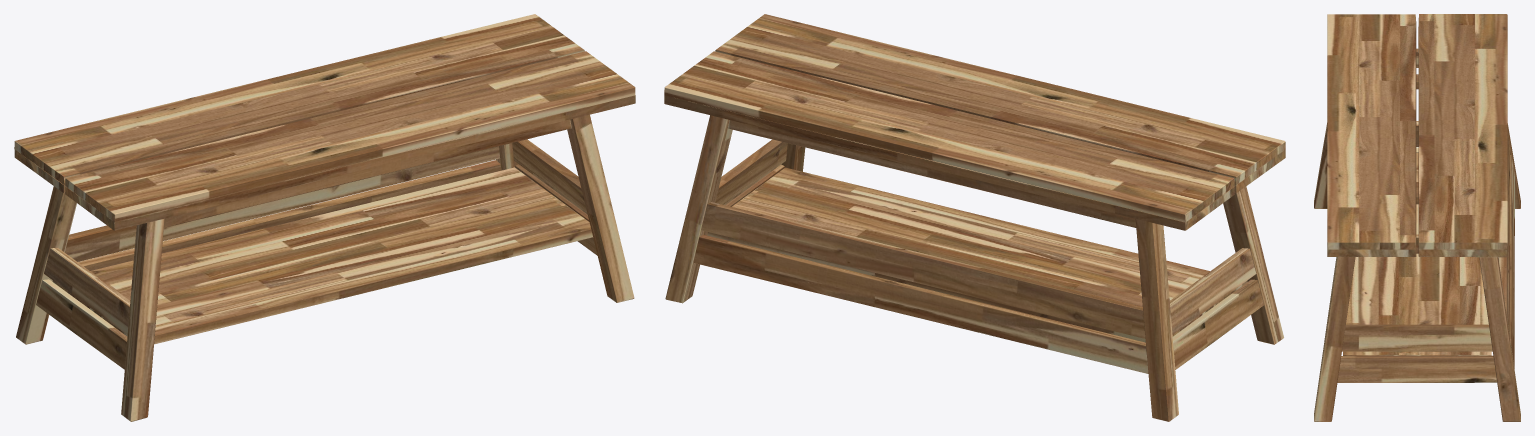
File: LB-BENCH-04.glb
3 renders of one model, left to right at view 1: azimuth 30°, elevation 25°; view 2: azimuth 150°, elevation 25°; view 3: azimuth 270°, elevation 25°, orthographic. The views are drawn at different scales.
Parts seen in each view (by area): view 1: ASY_ART_20611882_S01_NV01; view 2: ASY_ART_20611882_S01_NV01; view 3: ASY_ART_20611882_S01_NV01.
Part boxes in pixels (x1,y1,x2,y2): ASY_ART_20611882_S01_NV01: (14, 14, 635, 421); ASY_ART_20611882_S01_NV01: (664, 14, 1285, 421); ASY_ART_20611882_S01_NV01: (1314, 14, 1520, 421).
Bounding box in the file's own units: 1.2 × 0.4503 × 0.4597.
Materials: 1 (1 with a texture image).
